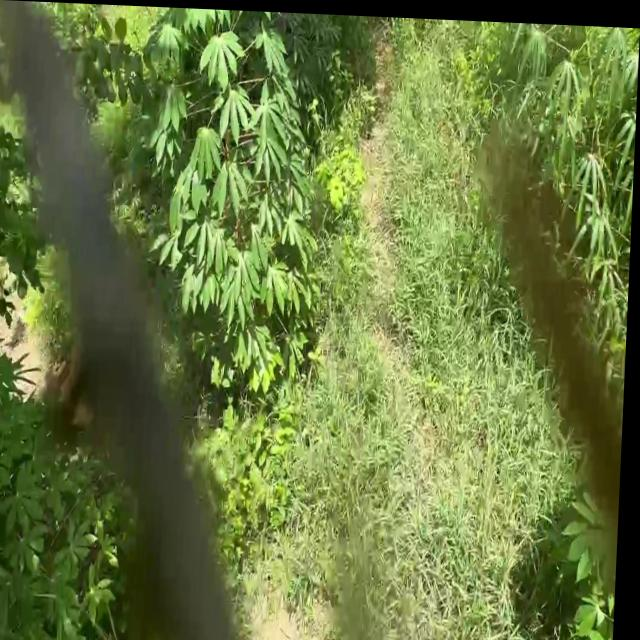Maleza: (301, 323, 476, 550), (391, 437, 565, 638), (381, 40, 488, 341), (277, 510, 432, 640), (198, 423, 320, 587), (445, 318, 552, 455), (325, 126, 366, 216)
